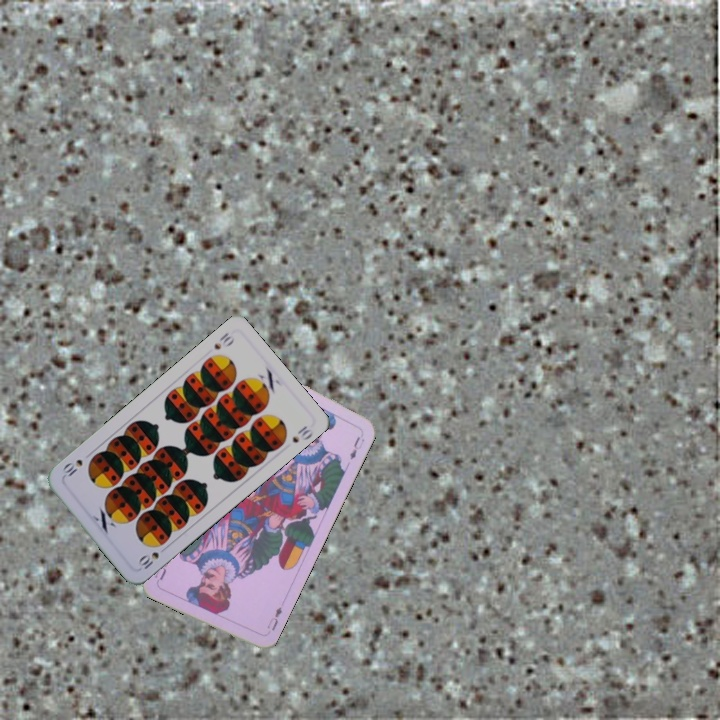EU: (263, 603, 285, 633)
S10: (133, 548, 162, 572), (210, 328, 237, 352)
